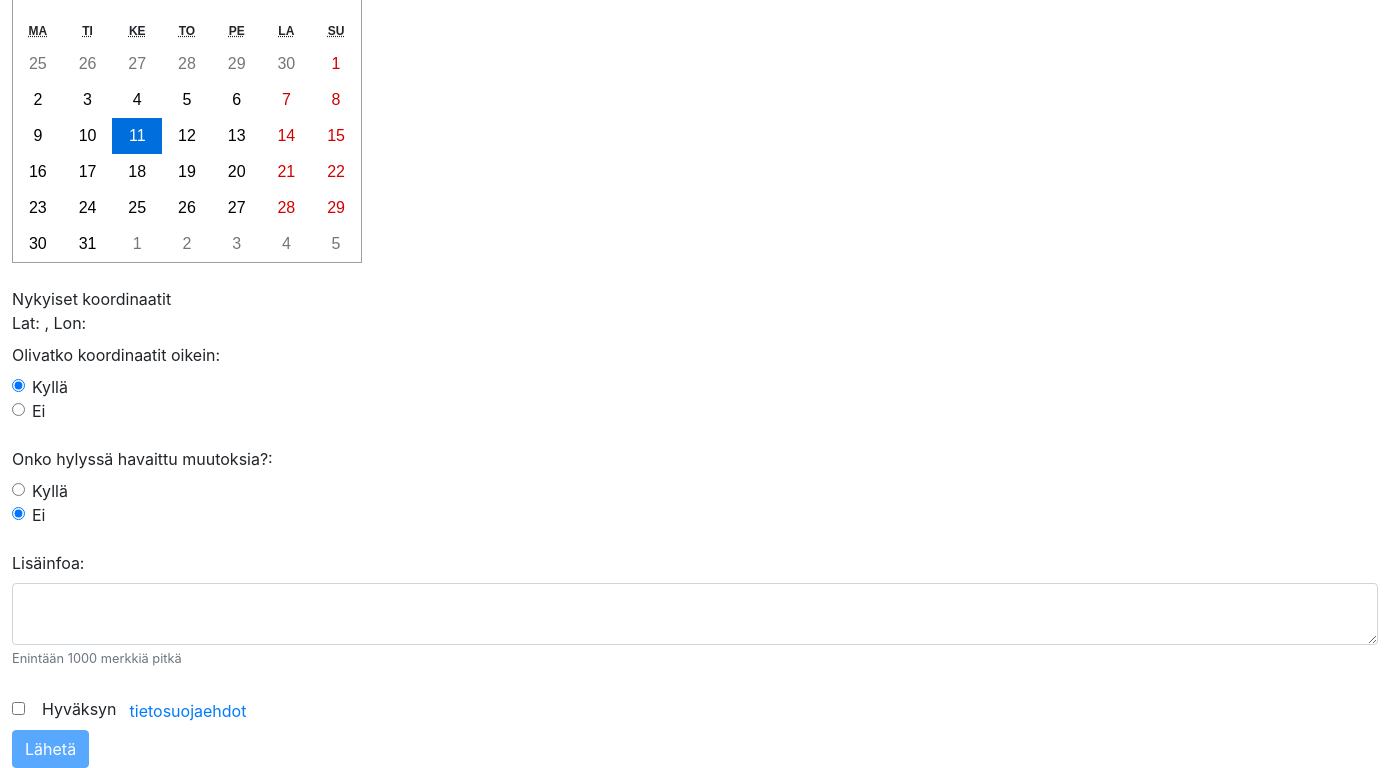
Test case: privacy terms behave correctly › terms have to be accepted to submit the form
The width and height of the screenshot is (1390, 768).
(page scrolled)
Expected: the button "Lähetä" is disabled, x1=12 y1=730 x2=89 y2=767
Click the checkbox with test id "privacy-checkbox": (18, 709) x1=12 y1=702 x2=25 y2=715
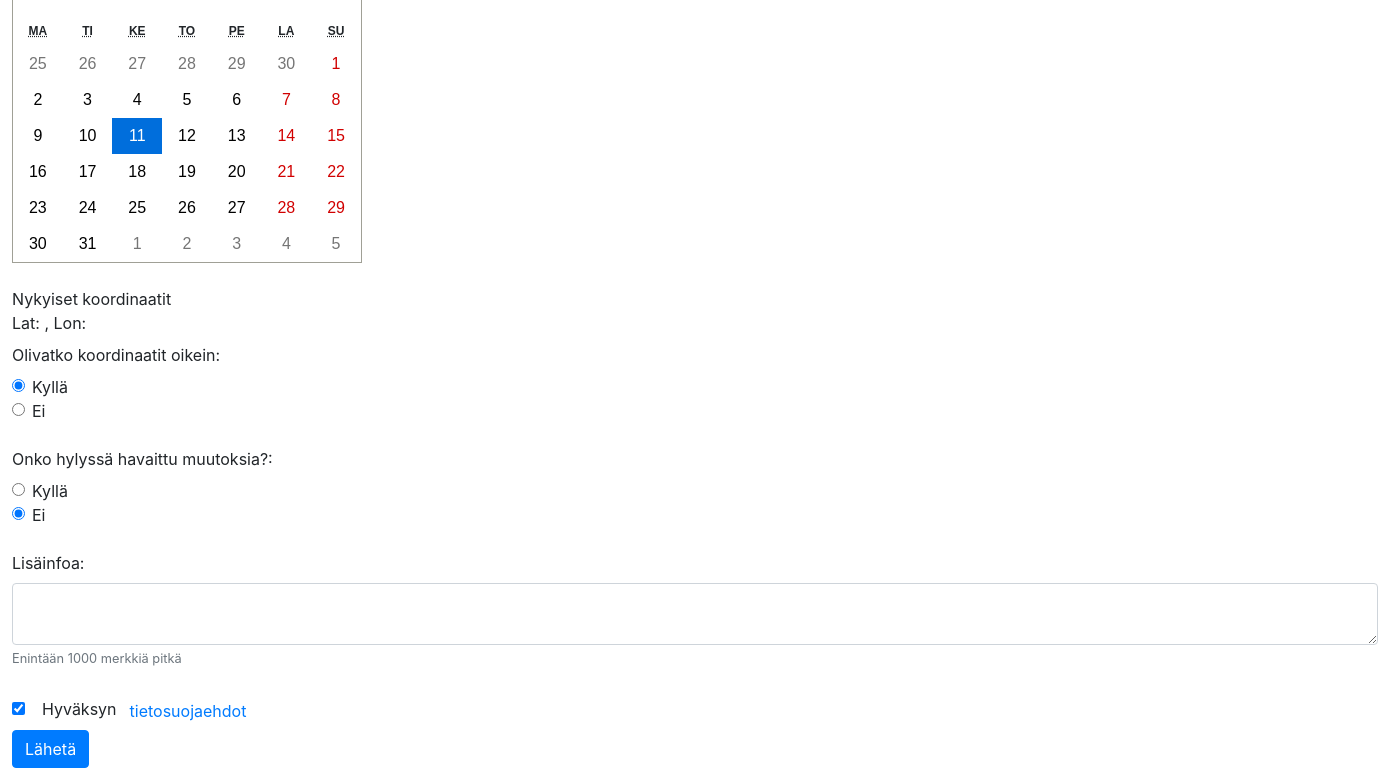
Result: the button "Lähetä" is enabled at x1=12 y1=730 x2=89 y2=767
